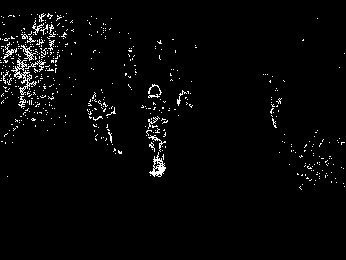person: (141, 84, 171, 180), (86, 90, 124, 157)
